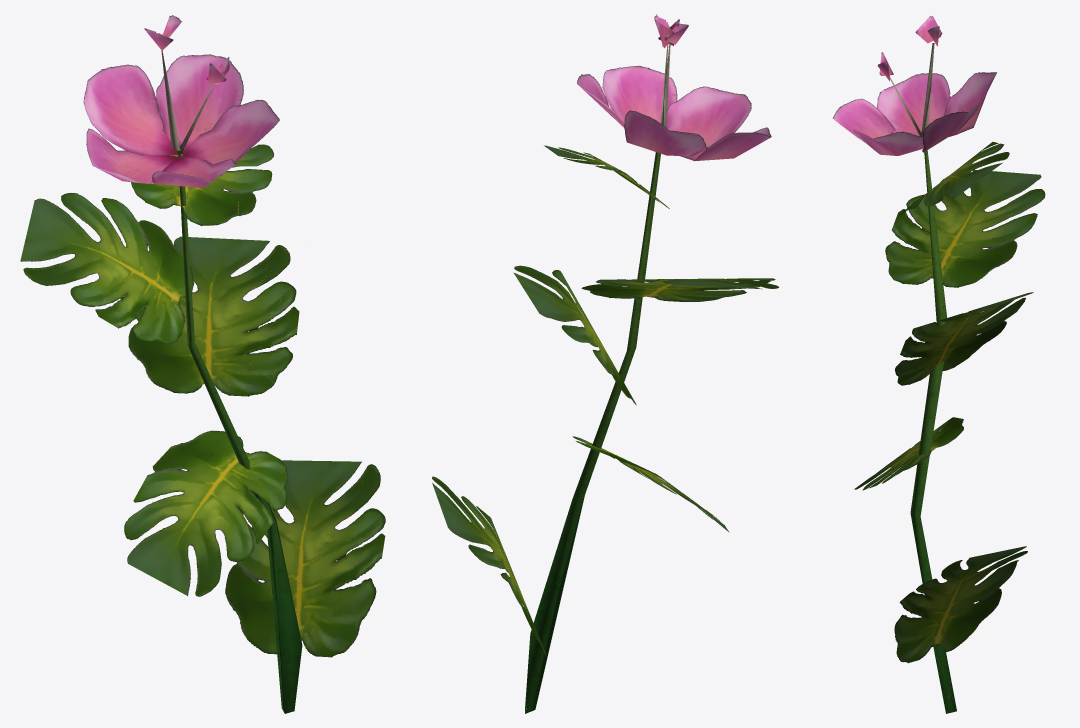
File: flowers9.glb
3 renders of one model, left to right at view 1: azimuth 30°, elevation 25°; view 2: azimuth 150°, elevation 25°; view 3: azimuth 270°, elevation 25°, orthographic. The views are drawn at different scales.
Parts seen in each view (by area): view 1: flowers.009; view 2: flowers.009; view 3: flowers.009.
Part boxes in pixels (bbox=[...]): flowers.009: bbox=[20, 15, 385, 713]; flowers.009: bbox=[432, 14, 778, 713]; flowers.009: bbox=[832, 16, 1045, 713].
Size of the model in its own units: 0.4905 by 0.8971 by 0.305.
1 material, 1 textured.
